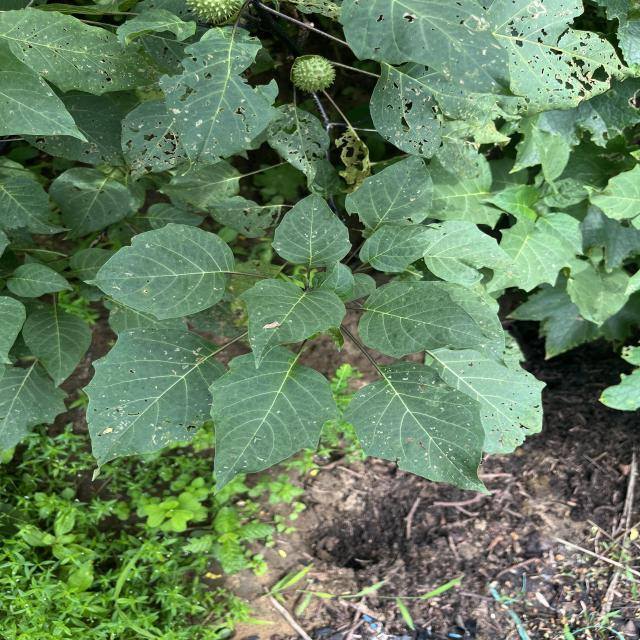Datura metal linn: (80, 325, 228, 484), (340, 360, 494, 497), (206, 345, 341, 498), (80, 221, 238, 322), (355, 278, 503, 360), (234, 276, 348, 371), (270, 183, 356, 269), (357, 224, 443, 274)
